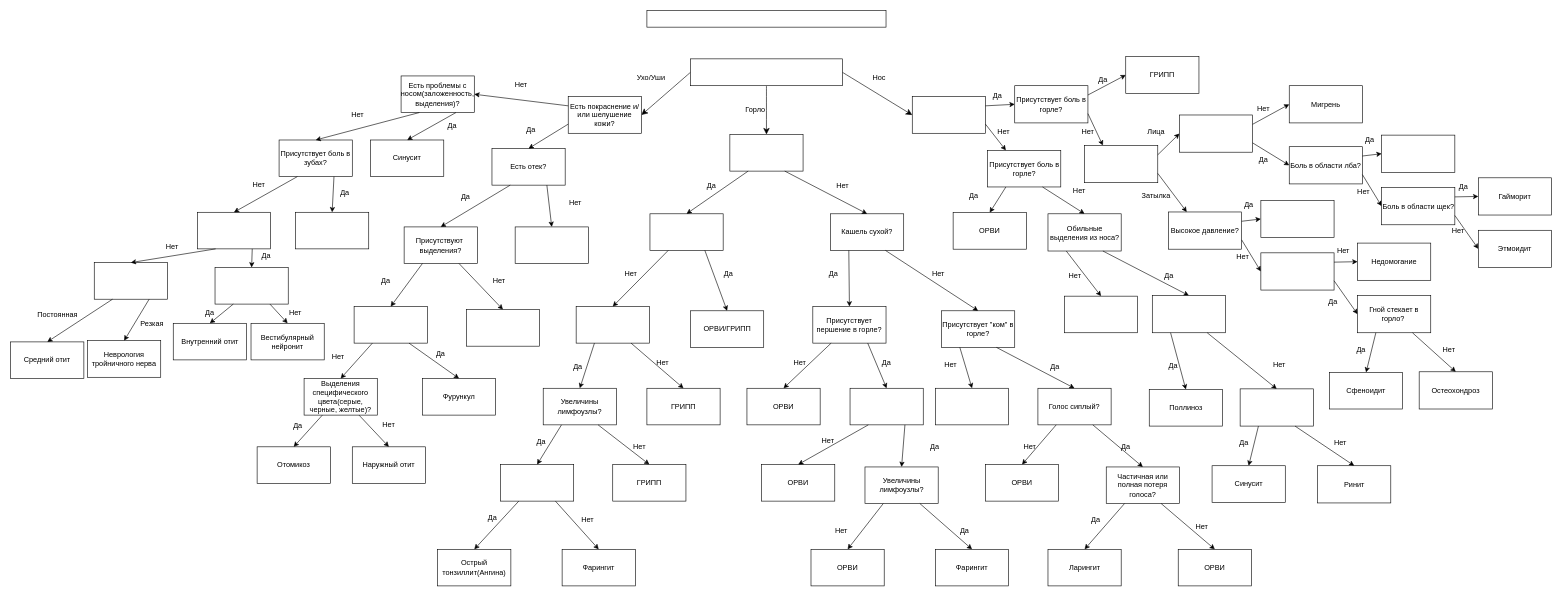
This 1562x597 diagram has some shape labels left out. The shapes that lost their labels are listed below. From the top down, each one's centre as x and y in pixels, then its label:
(766,18): Диагностирование ЛОР заболеваний
(766,72): Что конкретно беспокоит?
(948,114): Температура очень высокая?
(1216,133): Есть гнойные выделения?
(766,152): Очень высокая температура?
(1121,164): Головная боль в области лица или затылка?
(1418,153): Фронтит
(234,230): Присутствует головокружение?
(332,230): Пульпит
(686,231): Присутствует заложенность носа?
(1297,219): Гипертония
(551,245): Псориаз или экзема
(130,280): Боль резкая или постоянная
(251,285): Есть потеря слуха или шум в ушах?
(1297,271): Есть боль при движении?
(390,324): Есть ли гнойник?
(503,327): Дерматит
(612,324): Присутствует боль при глотани?
(1101,314): Аденоидит
(1188,314): Выделения прозрачные?
(886,406): Присутствует покраснение слизистой?
(972,406): Аллергическая реакция
(1276,407): Присутствует боль в области щек или лба?
(537,482): Присутствует гной на миндалинах?
